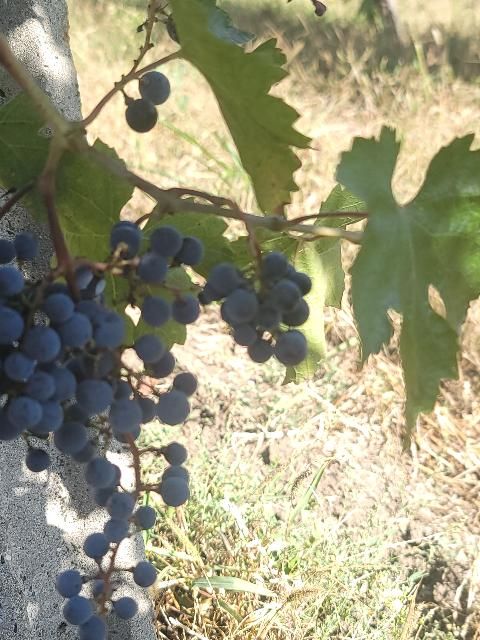grapes: (0, 221, 201, 640), (199, 252, 311, 368)
